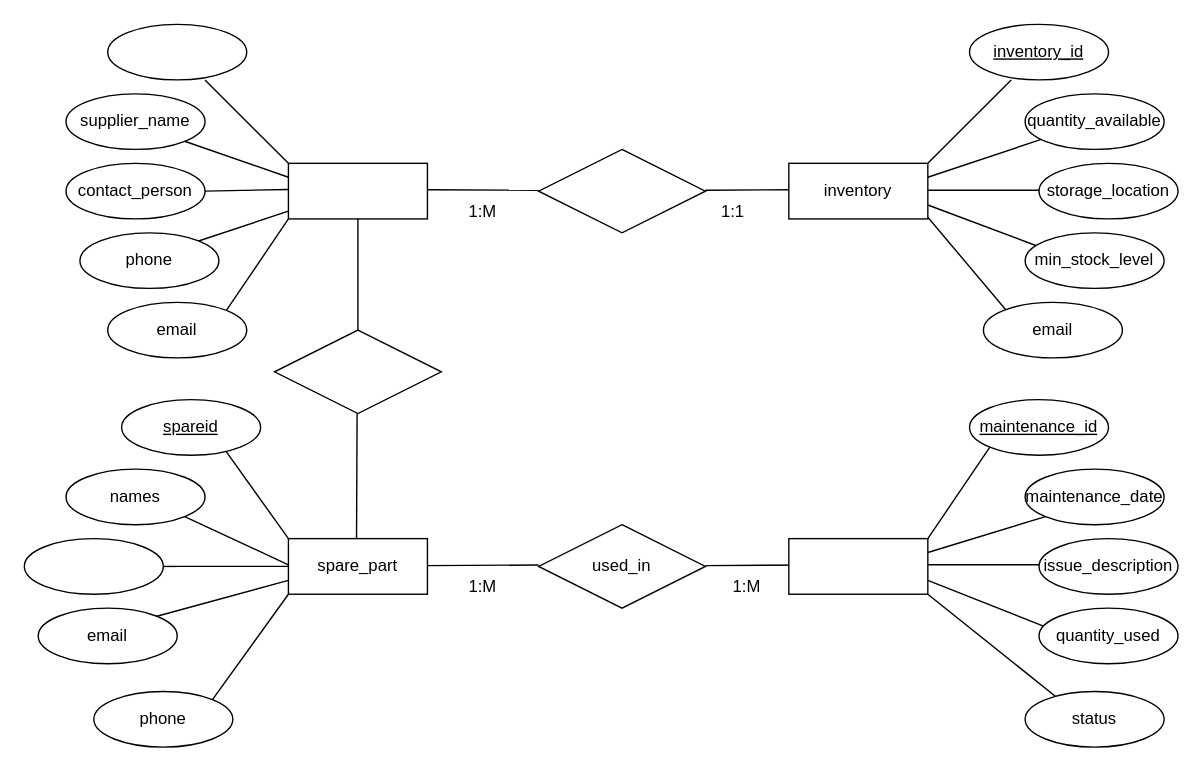
This 1202x771 diagram has some shape labels left out. Each missing label, with the box of its shape:
item: (787, 537, 928, 594)
role: (23, 537, 163, 594)
stored_in: (273, 329, 441, 414)
supplier: (287, 162, 427, 219)
supplier_id: (106, 23, 247, 80)
supplies: (537, 148, 705, 233)
